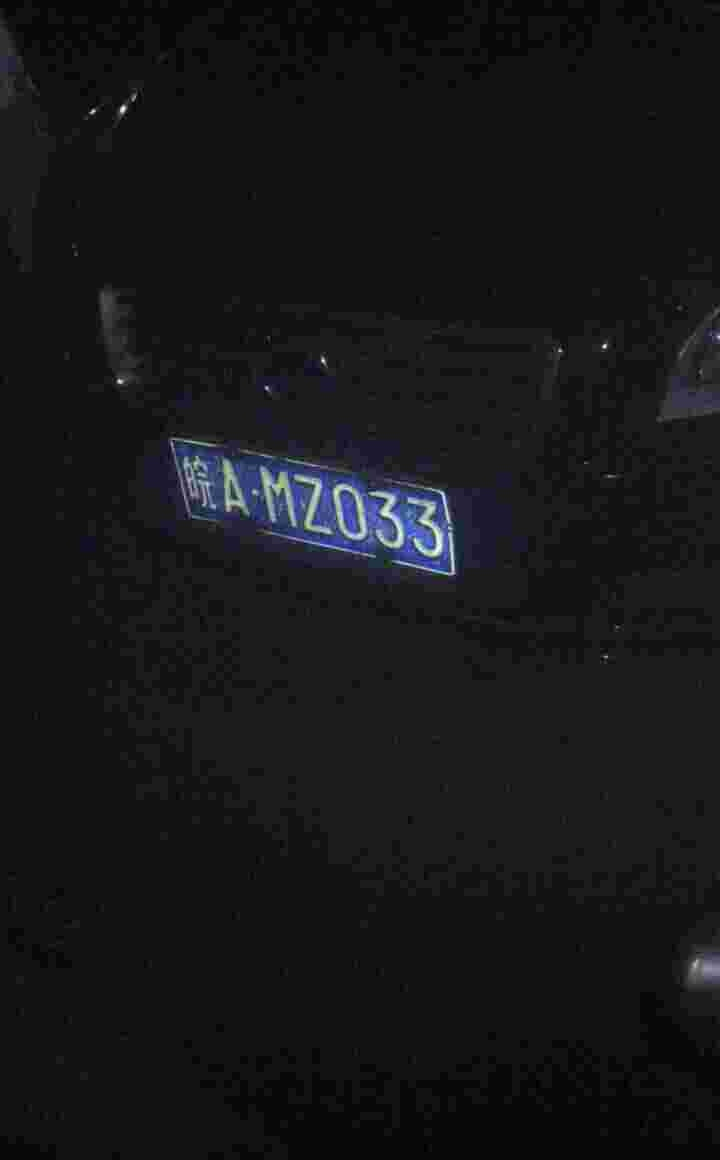license_plate: (183, 448, 460, 559)
